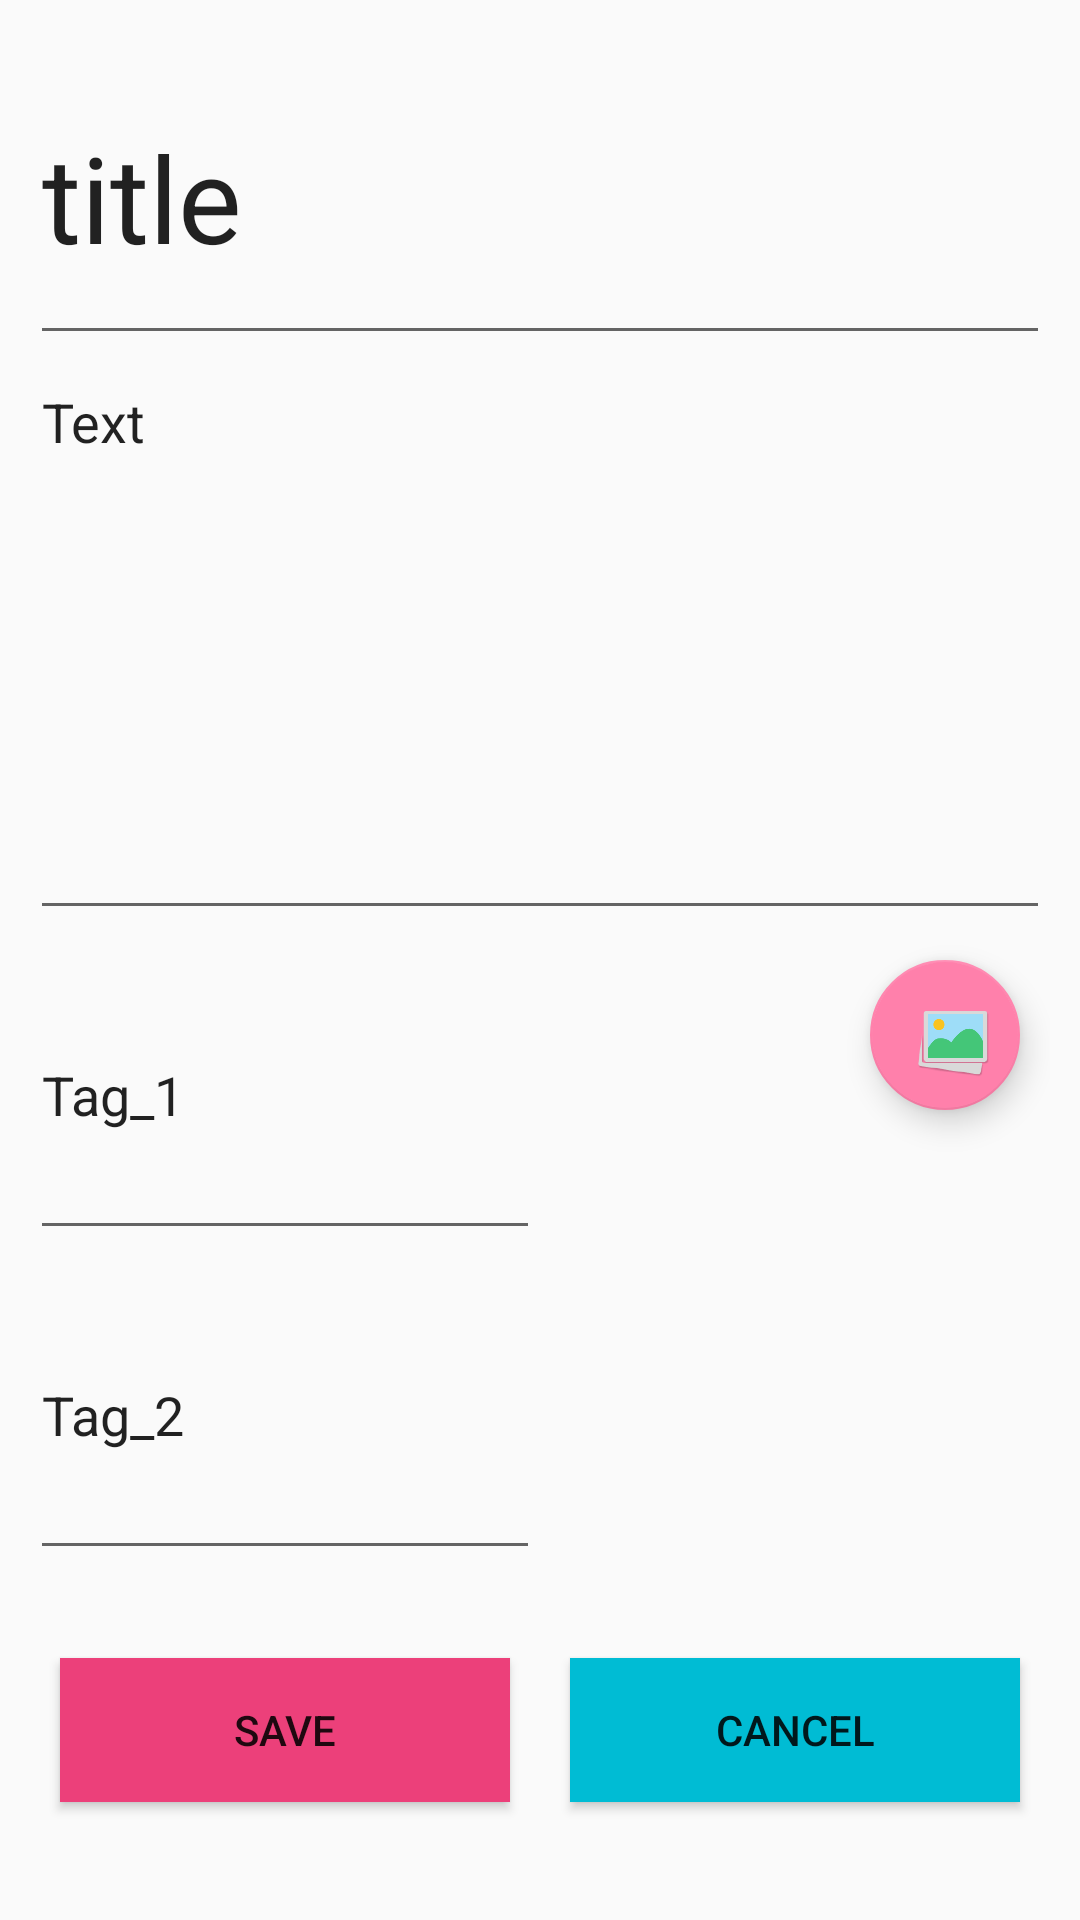

Where icons sit on this 1080 x 1920 app screen, as (x1, y1, x2, y2):
pict: (870, 960, 1020, 1110)
